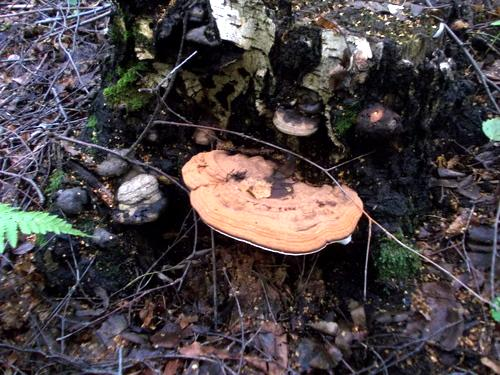Ganoderma - Fruit Body: (177, 141, 369, 262)
